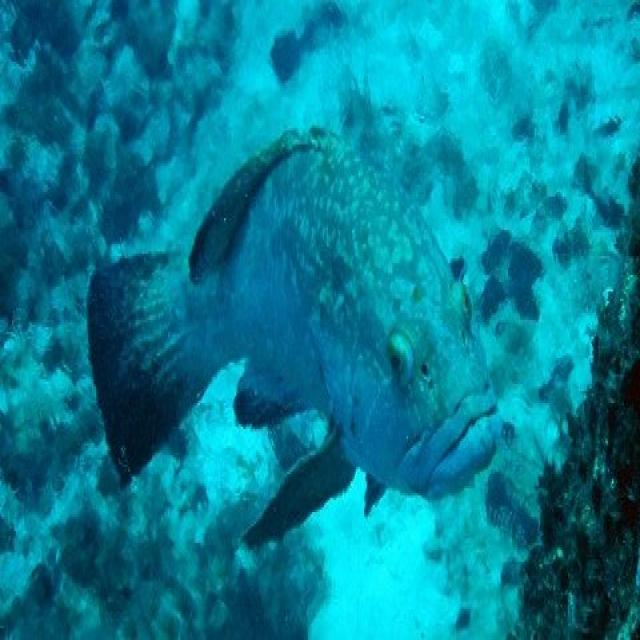grouper: (81, 114, 506, 536)
